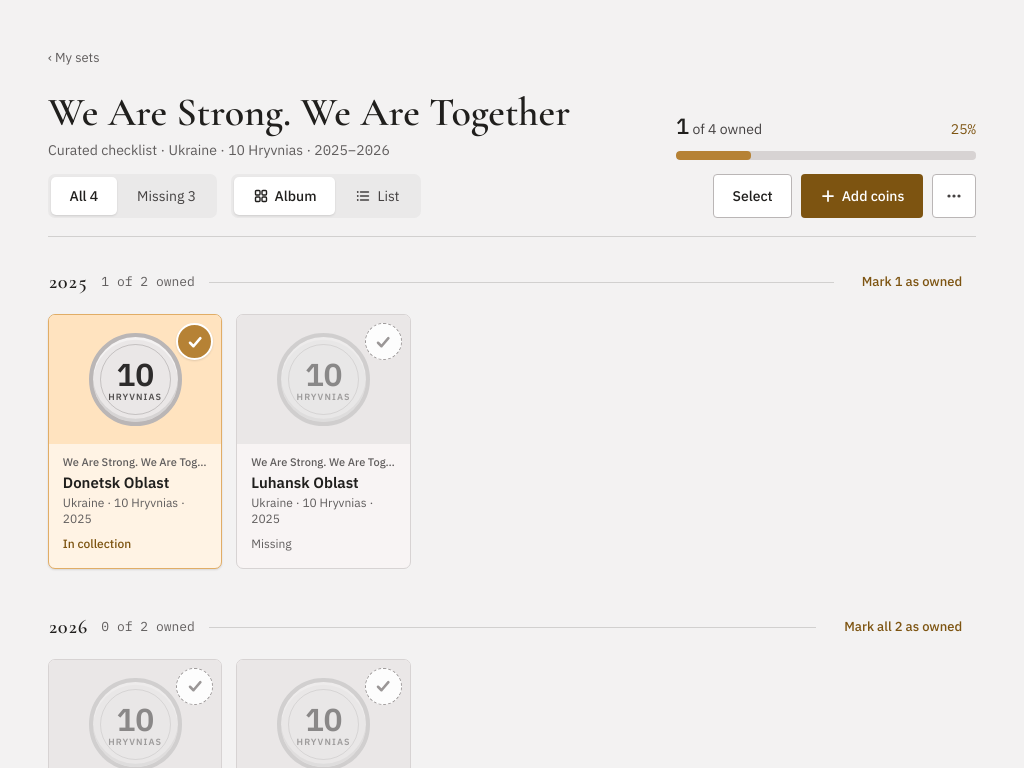
it: SetEditorPage › delete › clicking delete opens a confirmation dialog rather than deleting immediately
This screenshot has width=1024, height=768.
Click the button with test id "set-editor-actions-trigger".
click(954, 196)  # box [932,174,976,218]
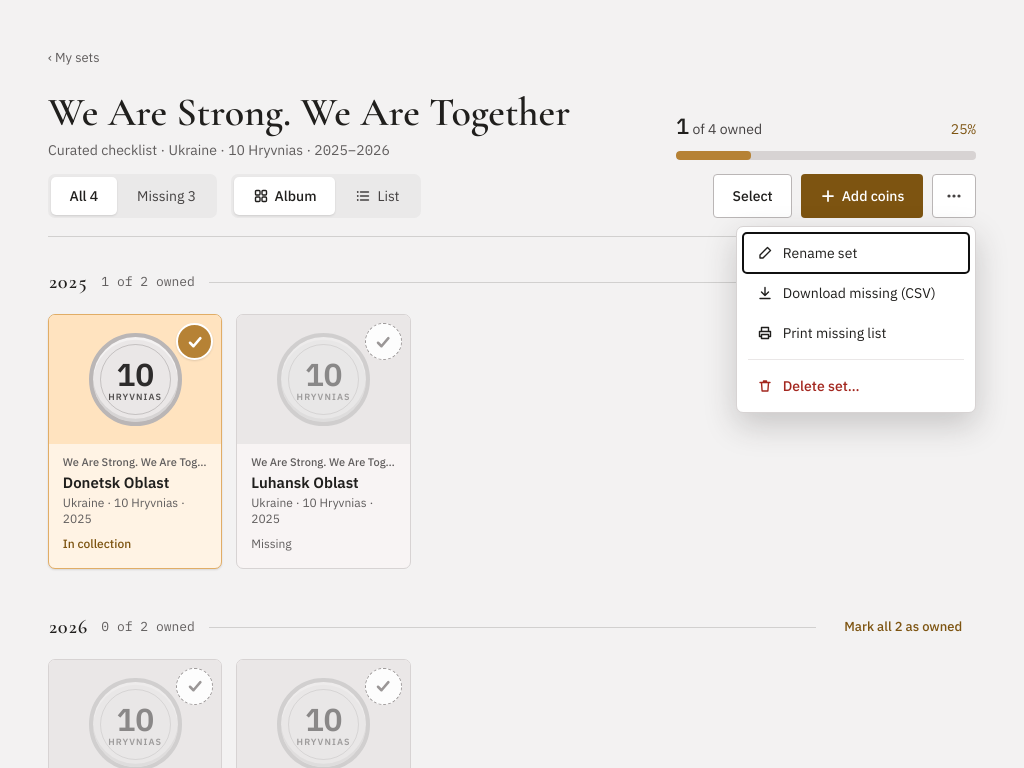
Click the menu item with test id "set-editor-delete-button".
click(856, 386)  # box [743,366,969,406]
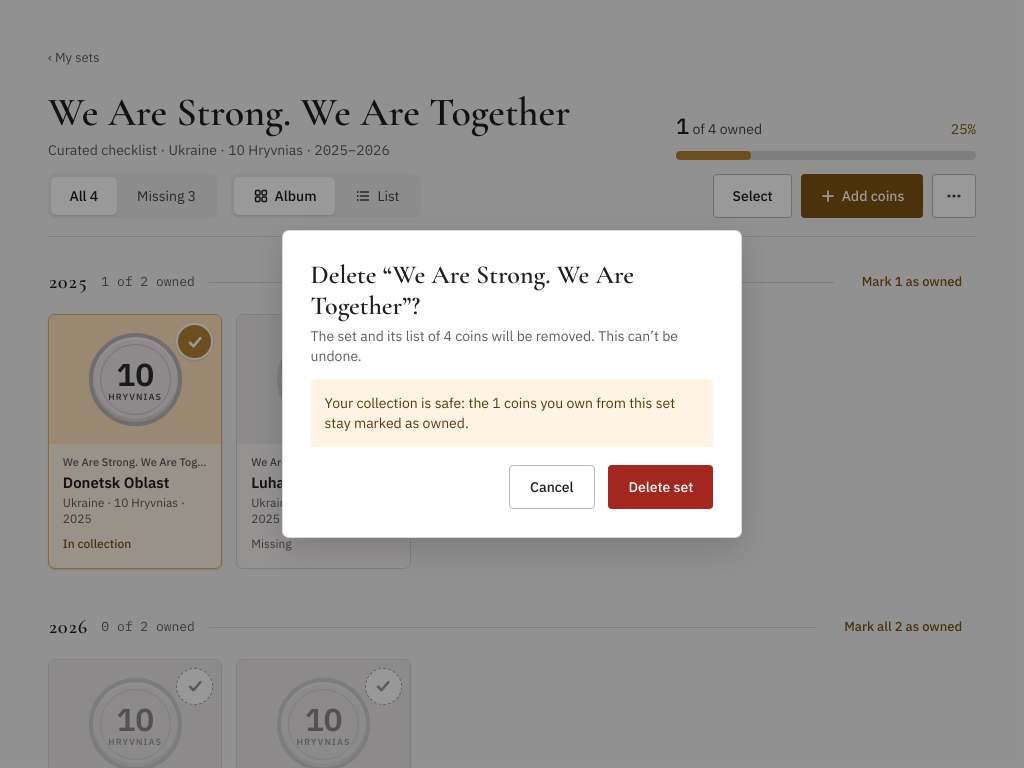
expect the element with test id "set-editor-delete-confirm" is shown: met
